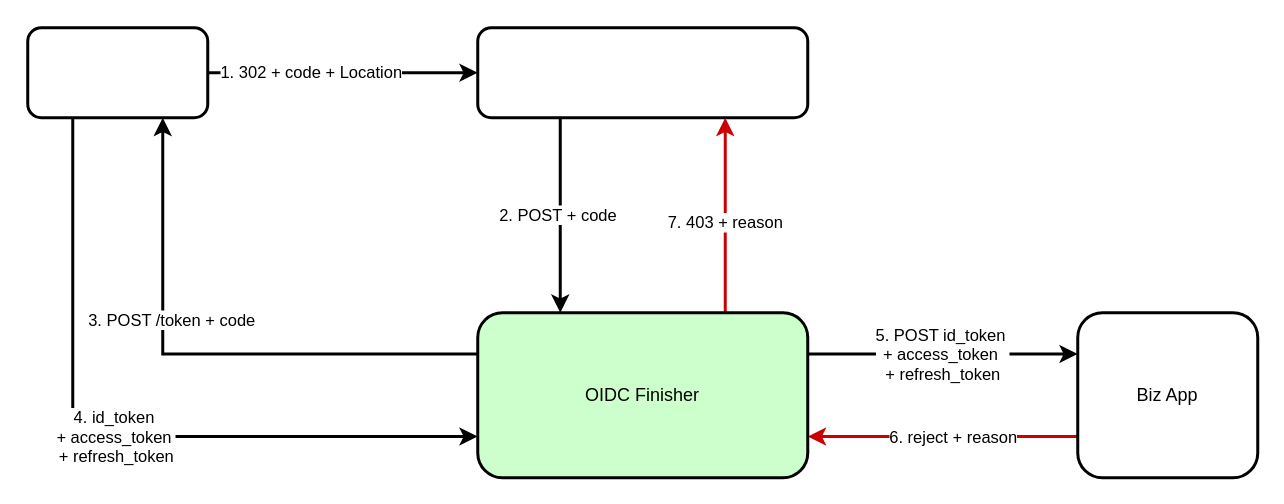
Image size: 1284x504. Some labels were removed from this diagram. Each missing label, with the centre of its shape:
Client: point (642, 72)
OIDC Provider: point (117, 72)
